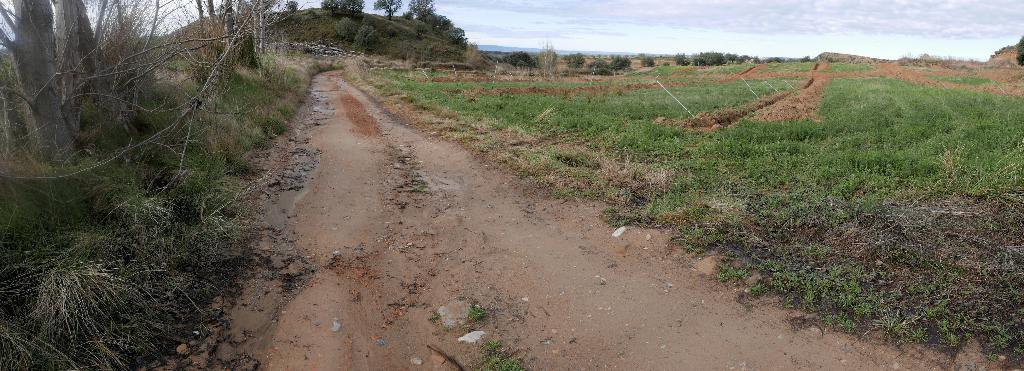Tree: (216, 0, 468, 43), (503, 50, 658, 71), (675, 47, 809, 65)
